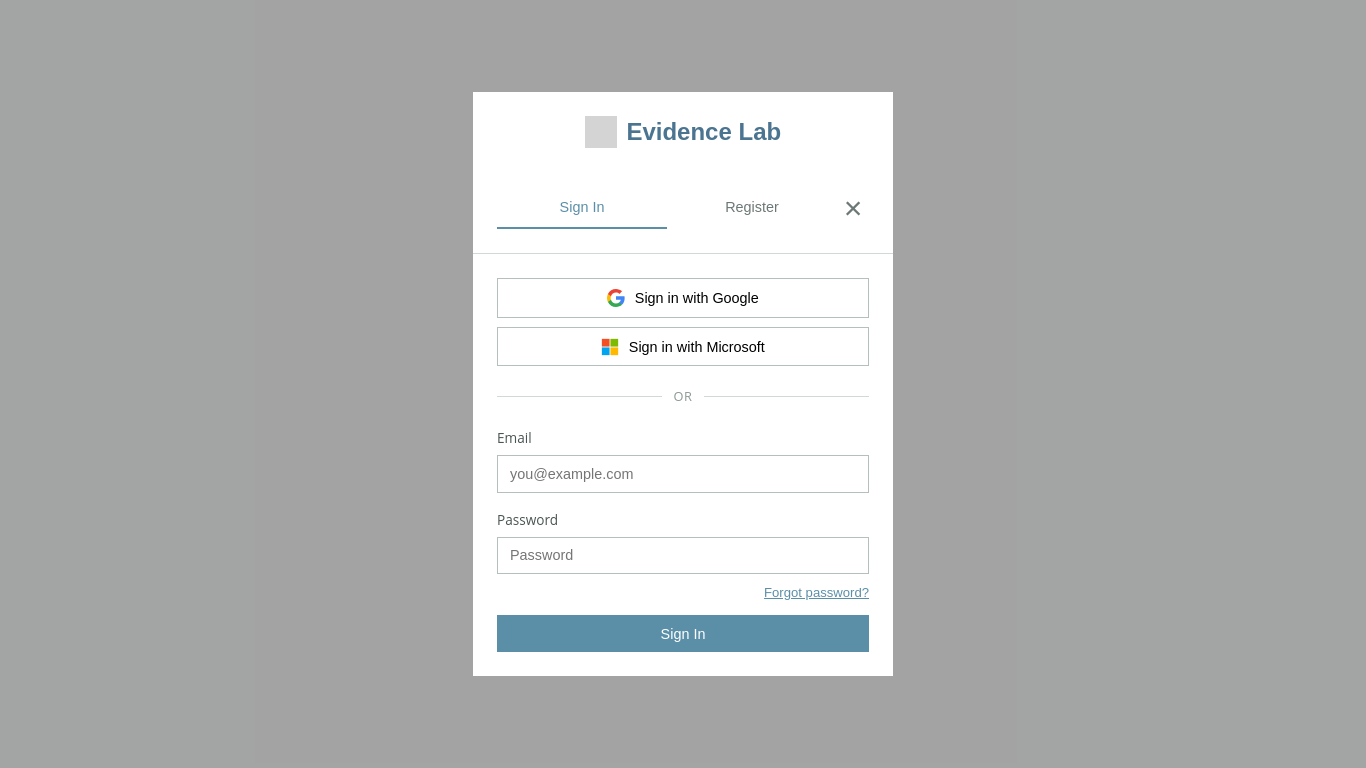
Test: LoginModal — Forgot password › hides OAuth buttons and password field in forgot mode
The image size is (1366, 768).
Expected: the button "Sign in with Google" is shown, [497,278,869,318]
Click the button "Forgot password?" at [817, 592], box [764,585,869,600]
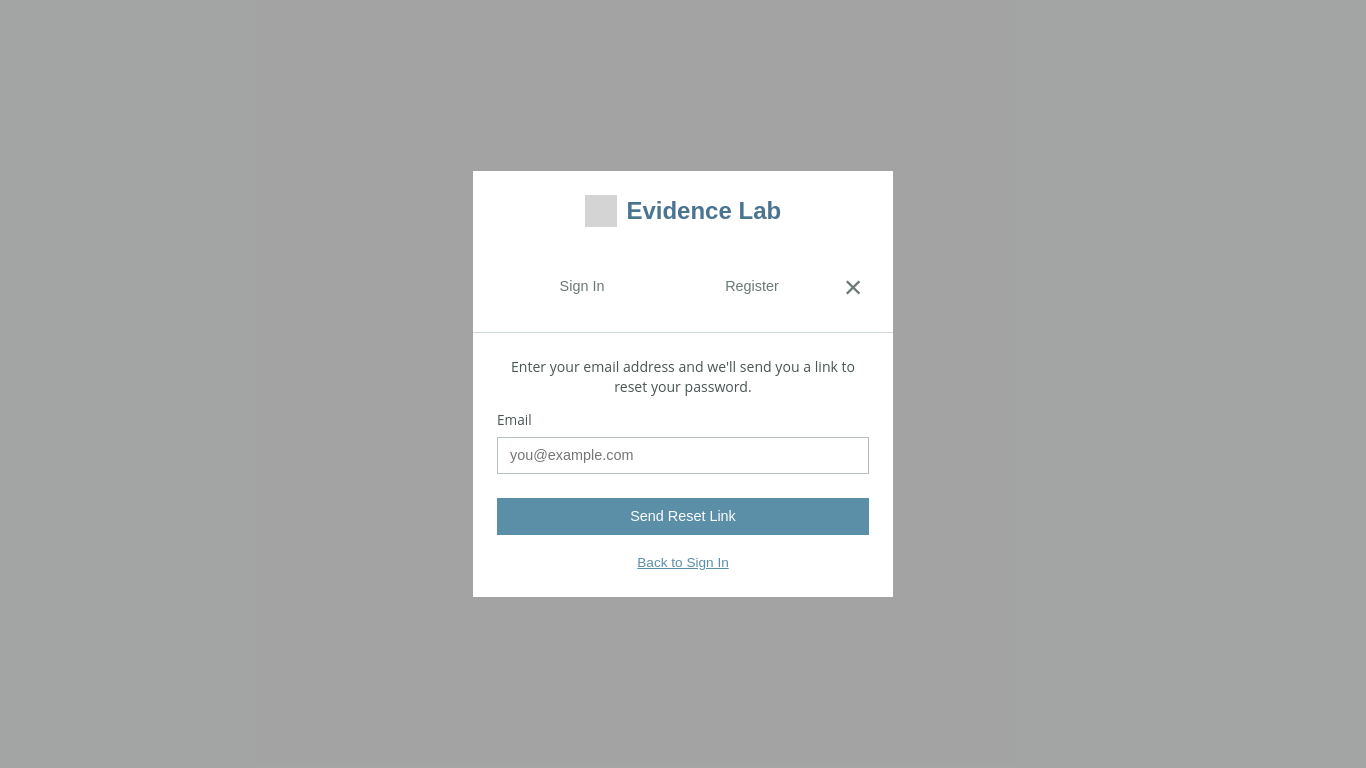
Now the button "Sign in with Google" is gone
